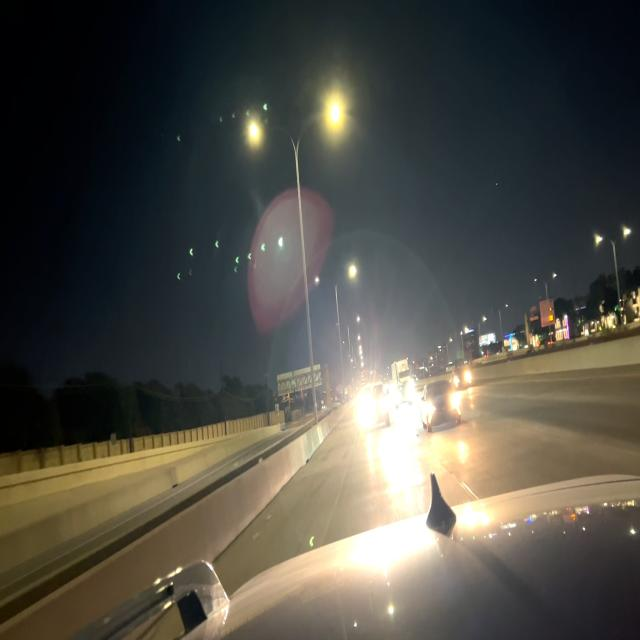back-of-sign: (276, 365, 322, 397)
